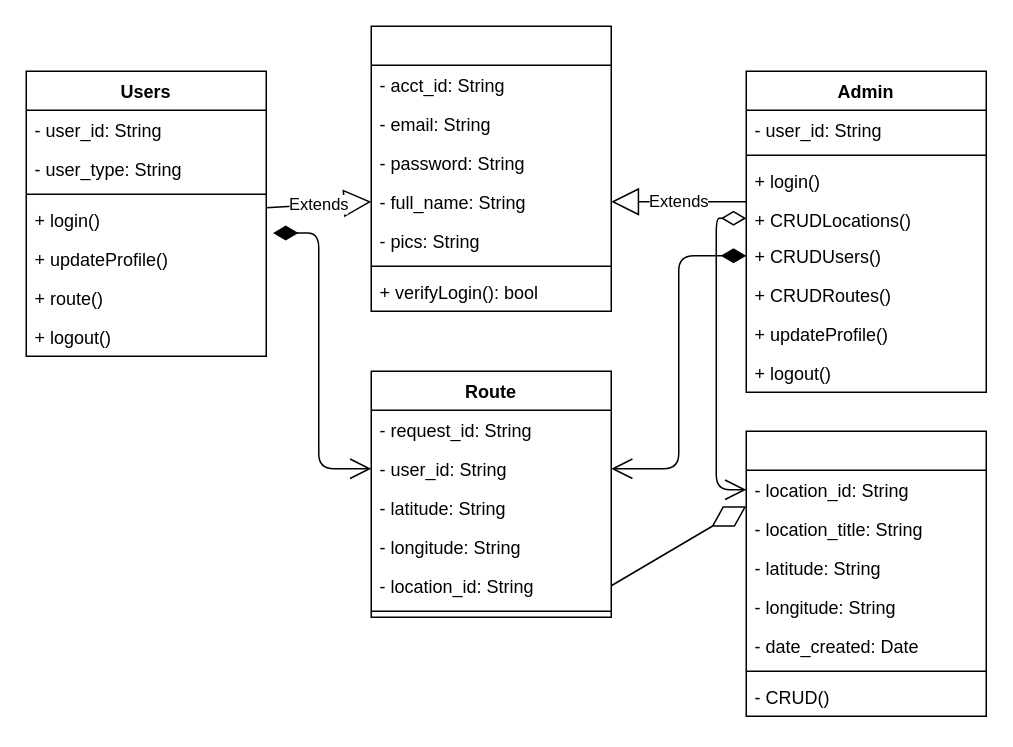
This 1013x747 diagram has some shape labels left out. The shapes that lost their labels are listed below. From the top down, each one's box as (x1, y1, x2, y2) in pixels, then its label:
(370, 25, 611, 311): Accounts
(745, 430, 986, 716): Locations
